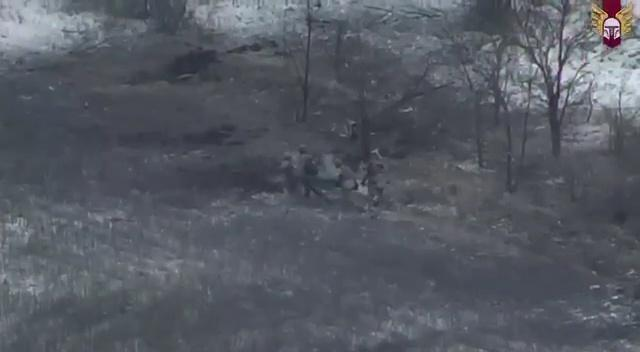person: (294, 140, 320, 198)
